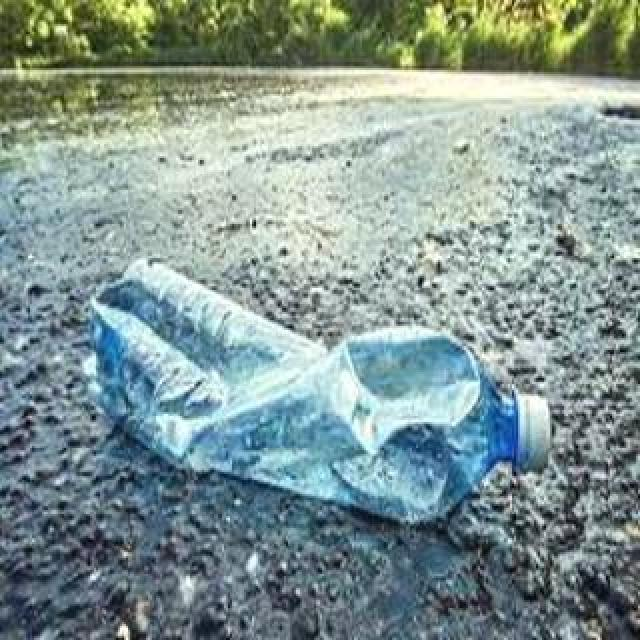Pet_Bottle: (88, 253, 564, 527)
